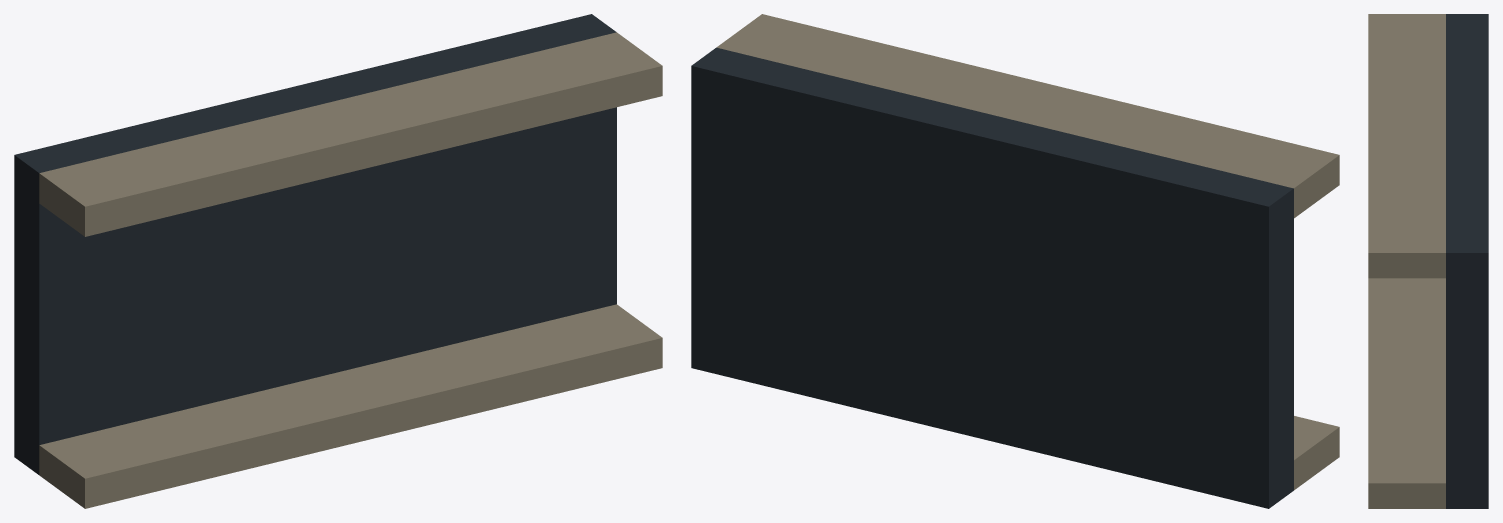
Rendered from SM_AEON_Causeway_8m.obj.
The picture shows the model from 3 angles, left to right: view 1: azimuth 30°, elevation 25°; view 2: azimuth 150°, elevation 25°; view 3: azimuth 270°, elevation 25°; orthographic projection. The views are drawn at different scales.
Visible parts, largest first — view 1: SM_AEON_Causeway_8m; view 2: SM_AEON_Causeway_8m; view 3: SM_AEON_Causeway_8m.
Part boxes in pixels (<box>): SM_AEON_Causeway_8m: <box>14,14,662,508</box>; SM_AEON_Causeway_8m: <box>691,14,1339,508</box>; SM_AEON_Causeway_8m: <box>1368,14,1488,508</box>.
Bounding box in the file's own units: 800 × 400 × 170.
